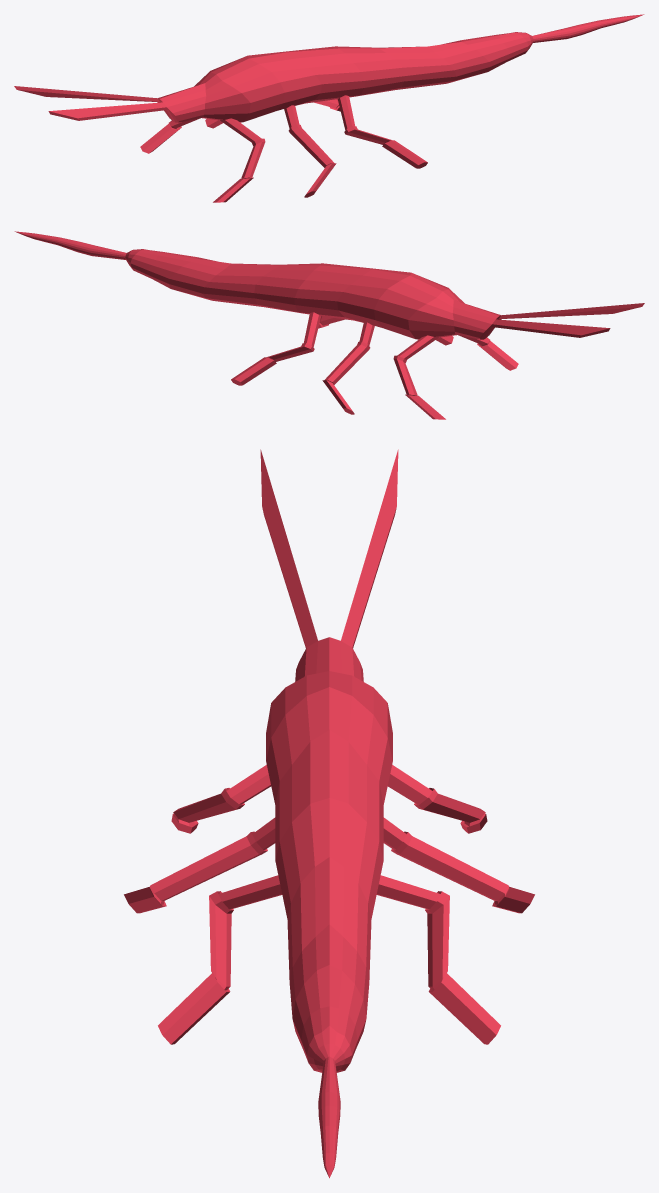
Rendered from fastman.fbx.
3 renders of one model, top to bottom at view 1: azimuth 30°, elevation 25°; view 2: azimuth 150°, elevation 25°; view 3: azimuth 270°, elevation 25°, orthographic. The views are drawn at different scales.
Parts seen in each view (by area): view 1: BODY, Cylinder.001; view 2: BODY, Cylinder.001; view 3: BODY, Cylinder.001.
Part boxes in pixels (<box>): BODY: <box>14,14,644,122</box>; Cylinder.001: <box>140,95,427,202</box>; BODY: <box>14,231,644,339</box>; Cylinder.001: <box>231,312,518,419</box>; BODY: <box>260,449,398,1178</box>; Cylinder.001: <box>124,765,534,1044</box>.
Bounding box in the file's own units: 497 × 98.48 × 144.
